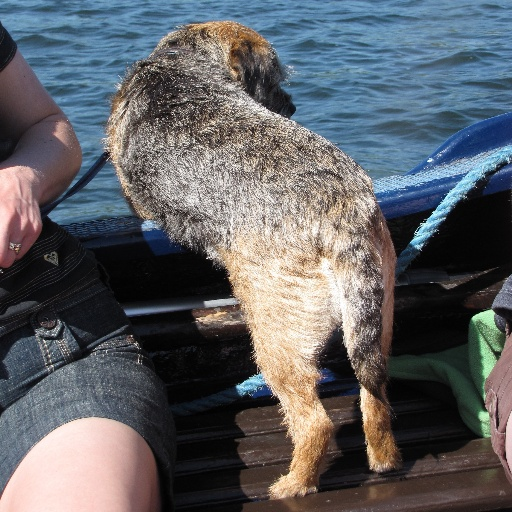hand: (0, 171, 44, 264)
